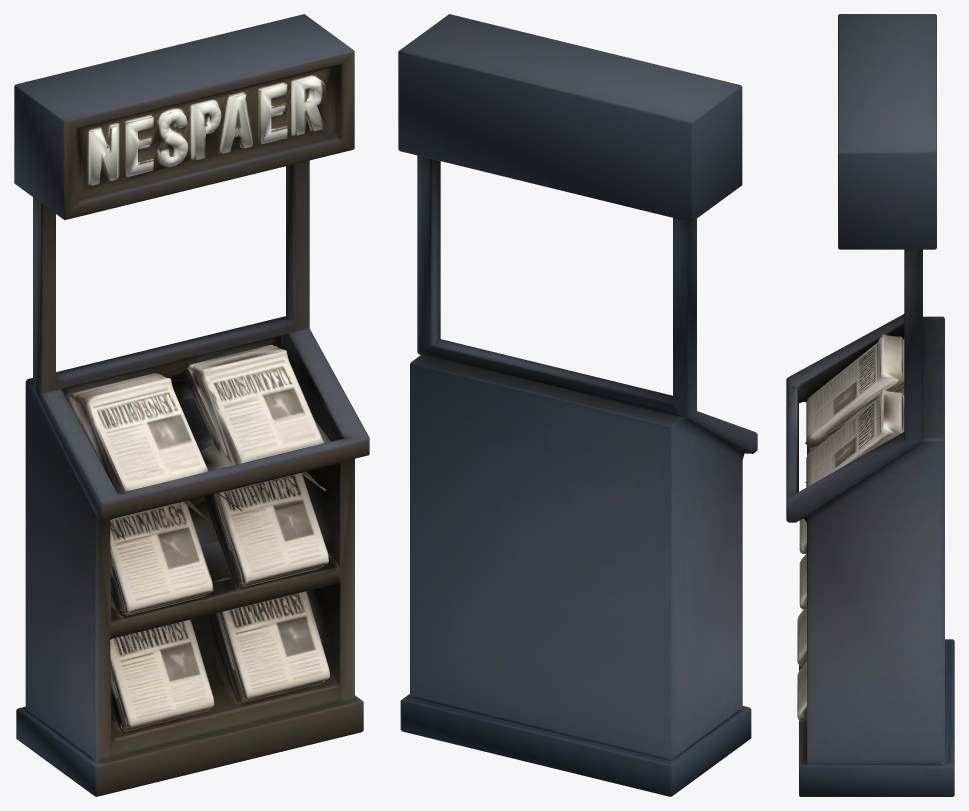
The model's file is newspaper_stand_realistic_style_75ab18b5_v3.glb.
3 views of the same model, side by side, from view 1: azimuth 30°, elevation 25°; view 2: azimuth 150°, elevation 25°; view 3: azimuth 270°, elevation 25° (orthographic). The views are drawn at different scales.
Visible parts, largest first — view 1: mesh_input; view 2: mesh_input; view 3: mesh_input.
Boxes of the visible parts, x1=… form: mesh_input: x1=14, y1=14, x2=369, y2=796; mesh_input: x1=398, y1=14, x2=757, y2=796; mesh_input: x1=786, y1=14, x2=954, y2=796.
Size of the model in its own units: 0.8711 by 1.9 by 0.4453.
Materials: 1 (1 with a texture image).
